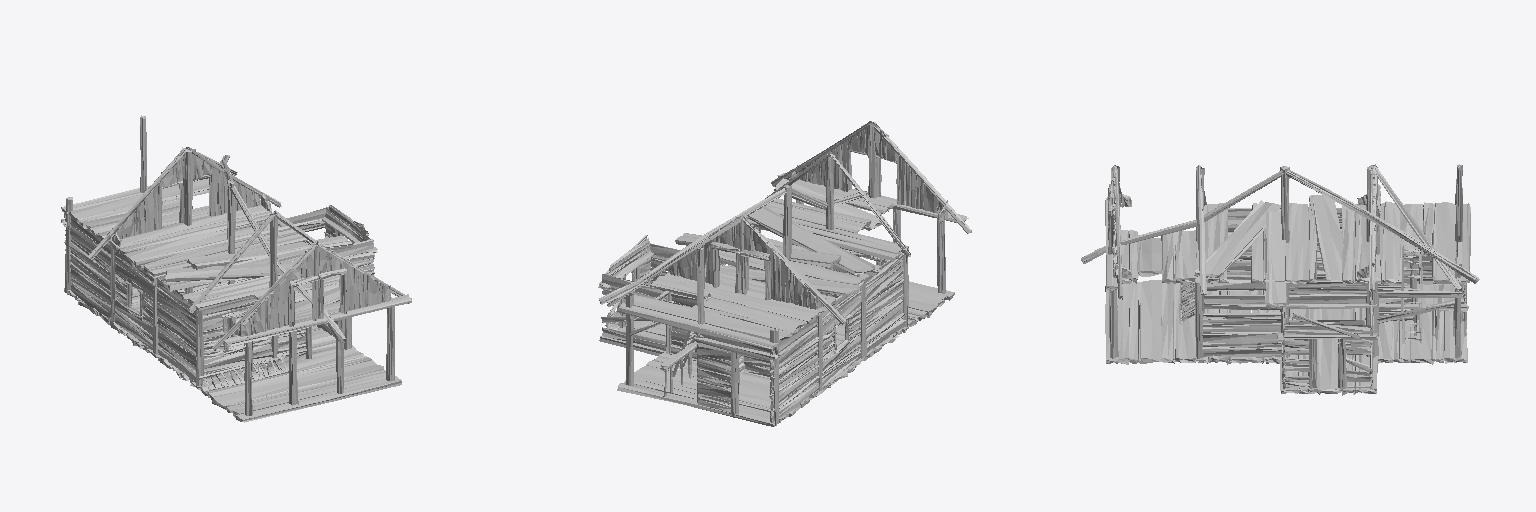
Rendered from Hut.obj.
3 renders of one model, left to right at view 1: azimuth 30°, elevation 25°; view 2: azimuth 150°, elevation 25°; view 3: azimuth 270°, elevation 25°, orthographic.
Visible parts, largest first — view 1: Cylinder.000; view 2: Cylinder.000; view 3: Cylinder.000.
Boxes of the visible parts, <box> form: Cylinder.000: <box>61,115,411,422</box>; Cylinder.000: <box>598,121,971,426</box>; Cylinder.000: <box>1081,164,1479,395</box>.
Bounding box in the file's own units: 13.42 × 8.39 × 18.77.